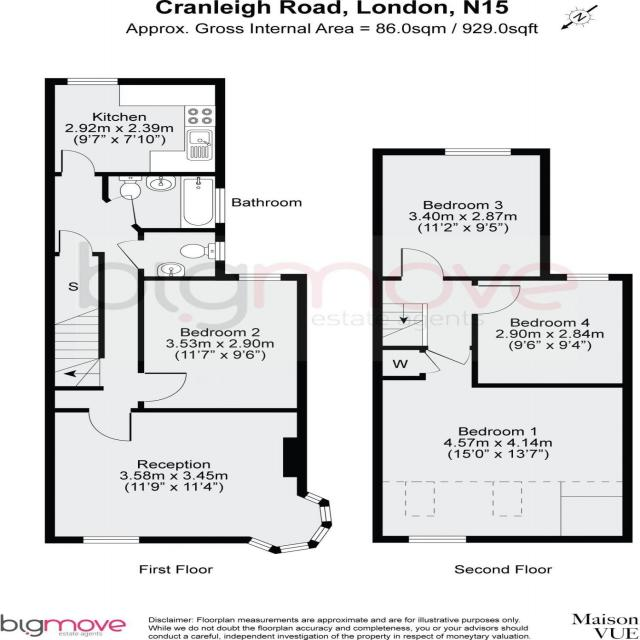DOOR: (137, 371, 187, 403), (471, 284, 522, 315), (88, 408, 134, 442), (399, 247, 445, 281), (105, 194, 138, 227), (59, 149, 96, 176), (426, 345, 471, 366), (114, 239, 144, 270)
ROOM: (372, 345, 633, 543), (44, 408, 333, 555), (372, 148, 551, 281), (138, 273, 308, 413), (471, 273, 633, 389), (44, 78, 226, 177)
WINDOW: (443, 147, 513, 156), (82, 535, 142, 544), (246, 536, 275, 553), (407, 535, 467, 543), (277, 541, 311, 554), (214, 188, 226, 224), (309, 525, 331, 544), (67, 78, 119, 86), (237, 273, 282, 281), (566, 273, 609, 281), (303, 491, 324, 505), (214, 241, 226, 261), (319, 506, 332, 523)
